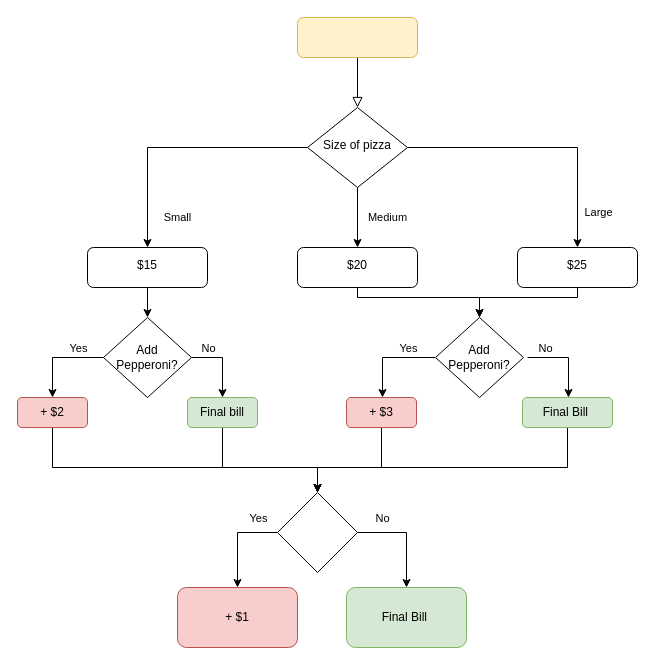
The diagram is 655 pixels wide and 665 high, and some of its shapes have lost their labels. The shapes that lost their labels are listed below. From the top down, each one's centre as x and y in pixels, then its label:
At pixel 357 37: "START".
At pixel 317 532: "Add cheese?".
